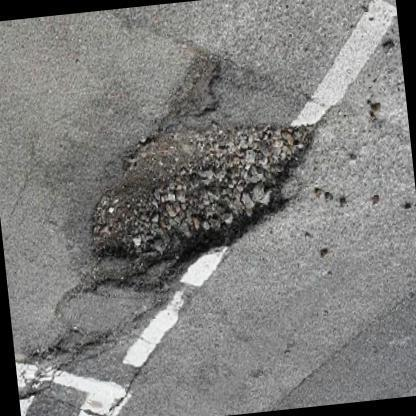pothole: (84, 47, 322, 302)
